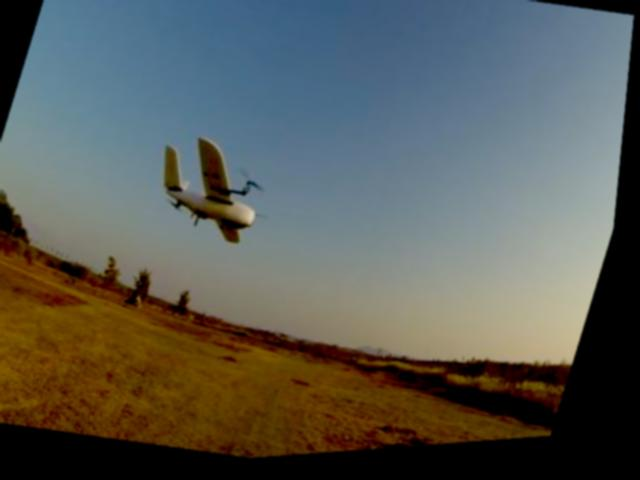uav: (133, 118, 291, 273)
